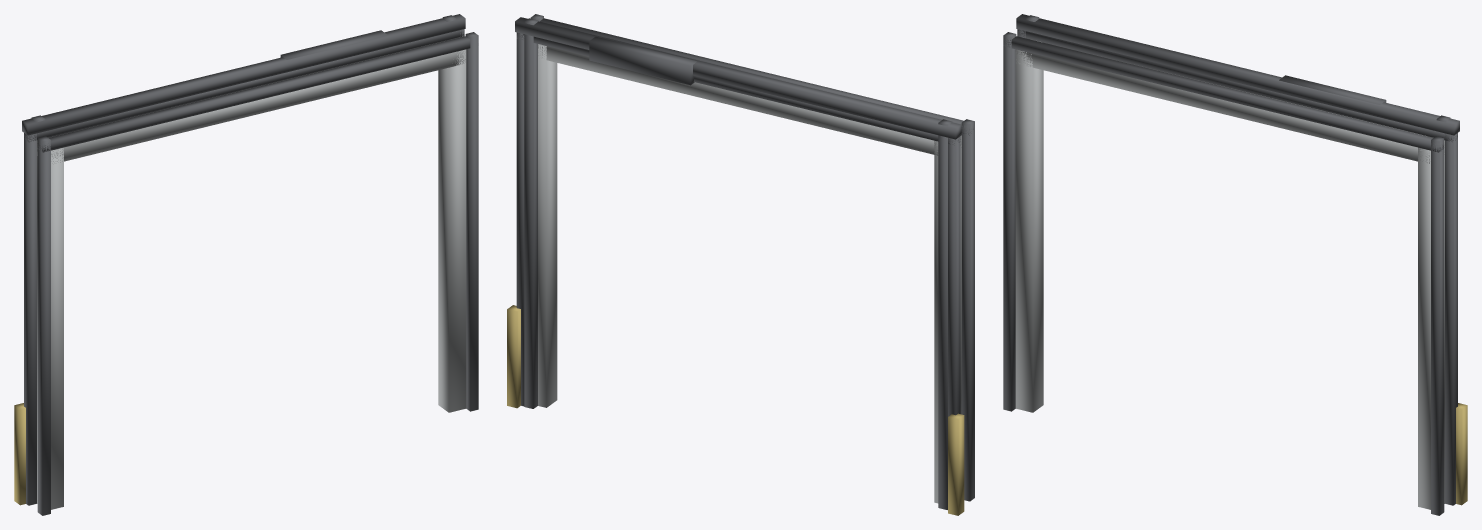
The model's file is bay_opening_service_bay_w420_h360_d20.glb.
3 renders of one model, left to right at view 1: azimuth 30°, elevation 25°; view 2: azimuth 150°, elevation 25°; view 3: azimuth 330°, elevation 25°, orthographic.
Visible parts, largest first — view 1: world; view 2: world; view 3: world.
Part boxes in pixels (bbox=[...]): world: bbox=[14, 14, 478, 515]; world: bbox=[507, 14, 974, 515]; world: bbox=[1003, 14, 1467, 515].
Size of the model in its own units: 4.89 by 3.99 by 0.422.
